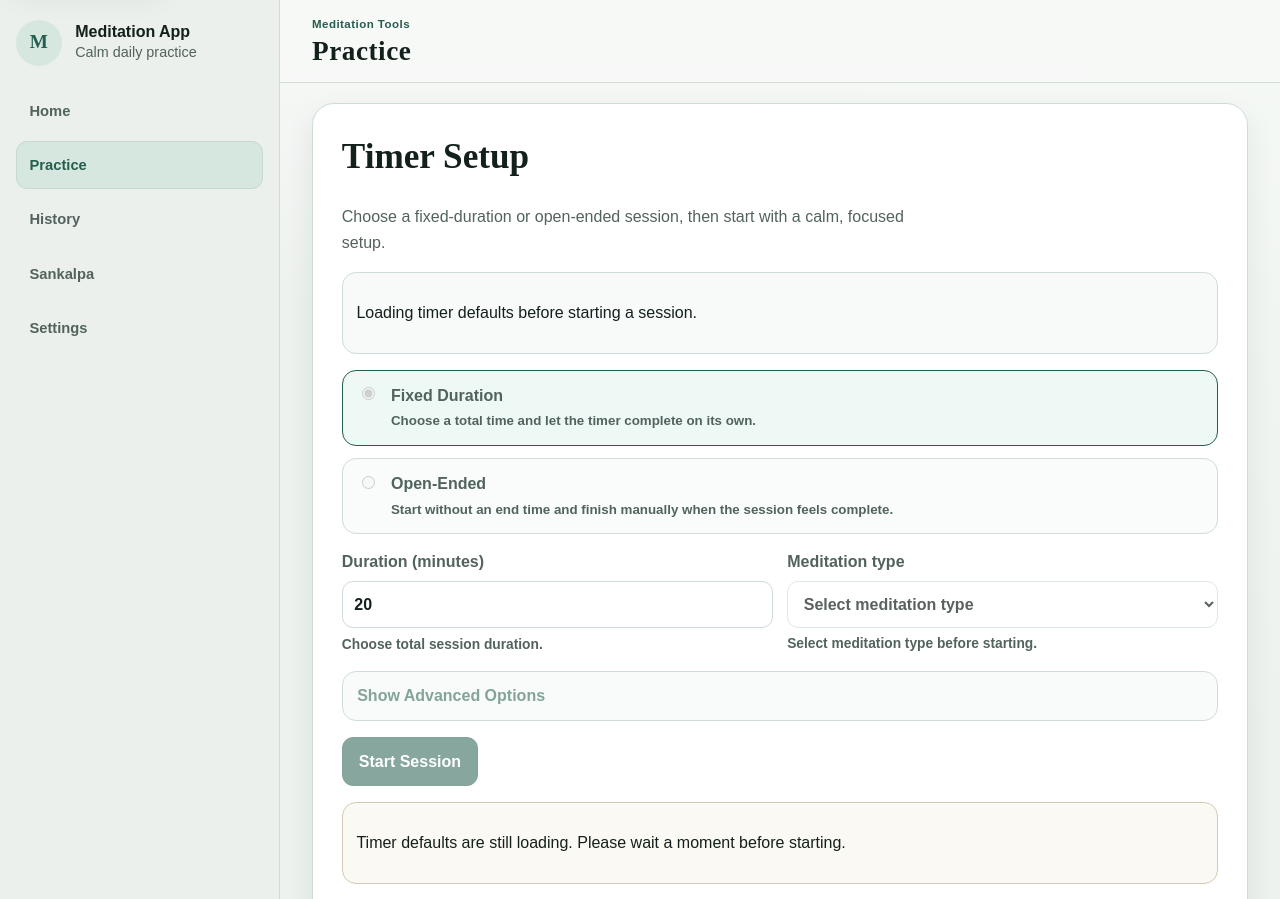
Test: ActiveTimerPage UX › shows elapsed time and end-session wording for open-ended sessions
Expected: the dropdown labelled "Meditation type Select meditation type before starting." is shown, [787,581,1218,628]
Click the radio button labelled "Open-Ended" at (369, 482), box [362,476,375,489]
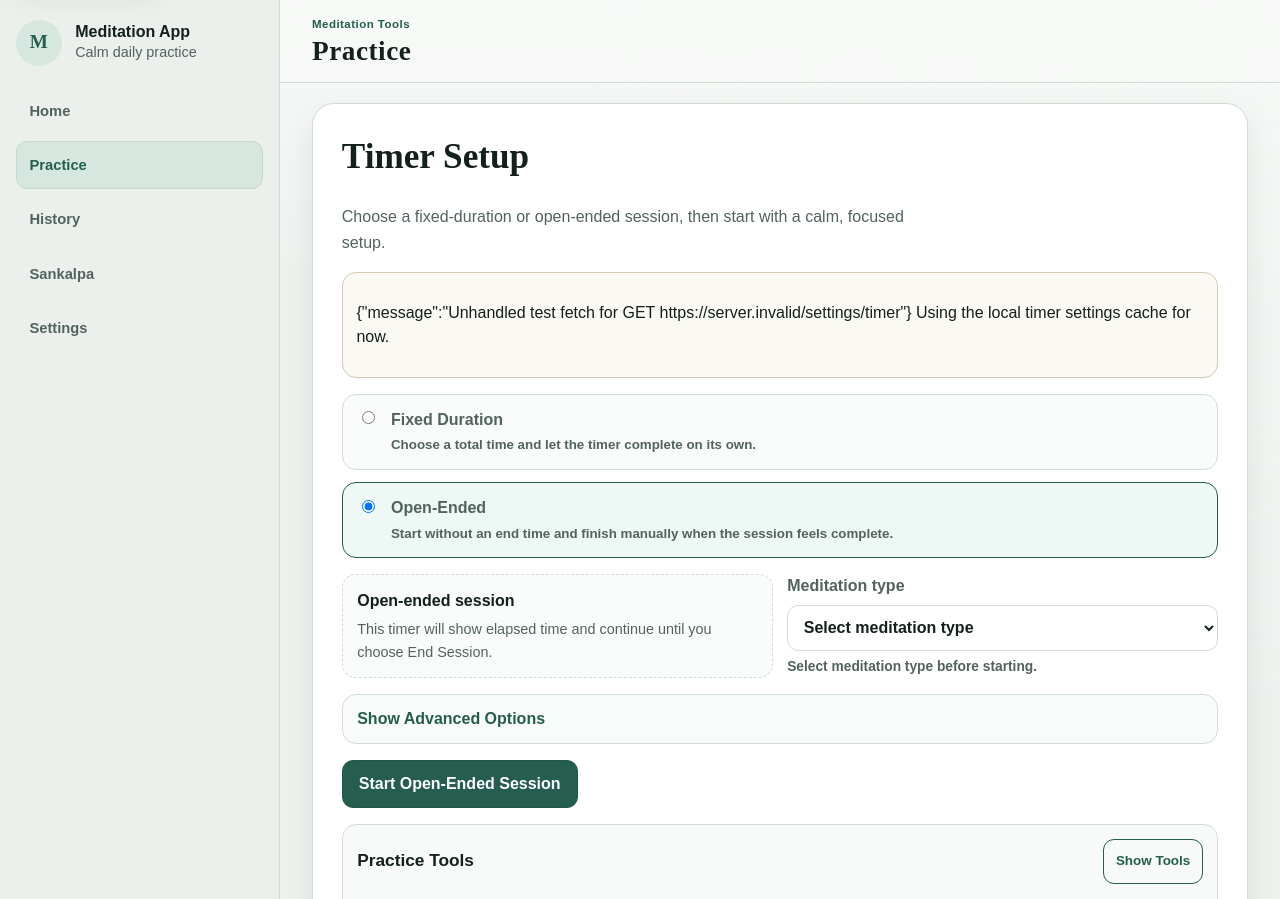
Select "Vipassana" in the dropdown labelled "Meditation type Select meditation type before starting." at (1003, 628), box [787,605,1218,650]
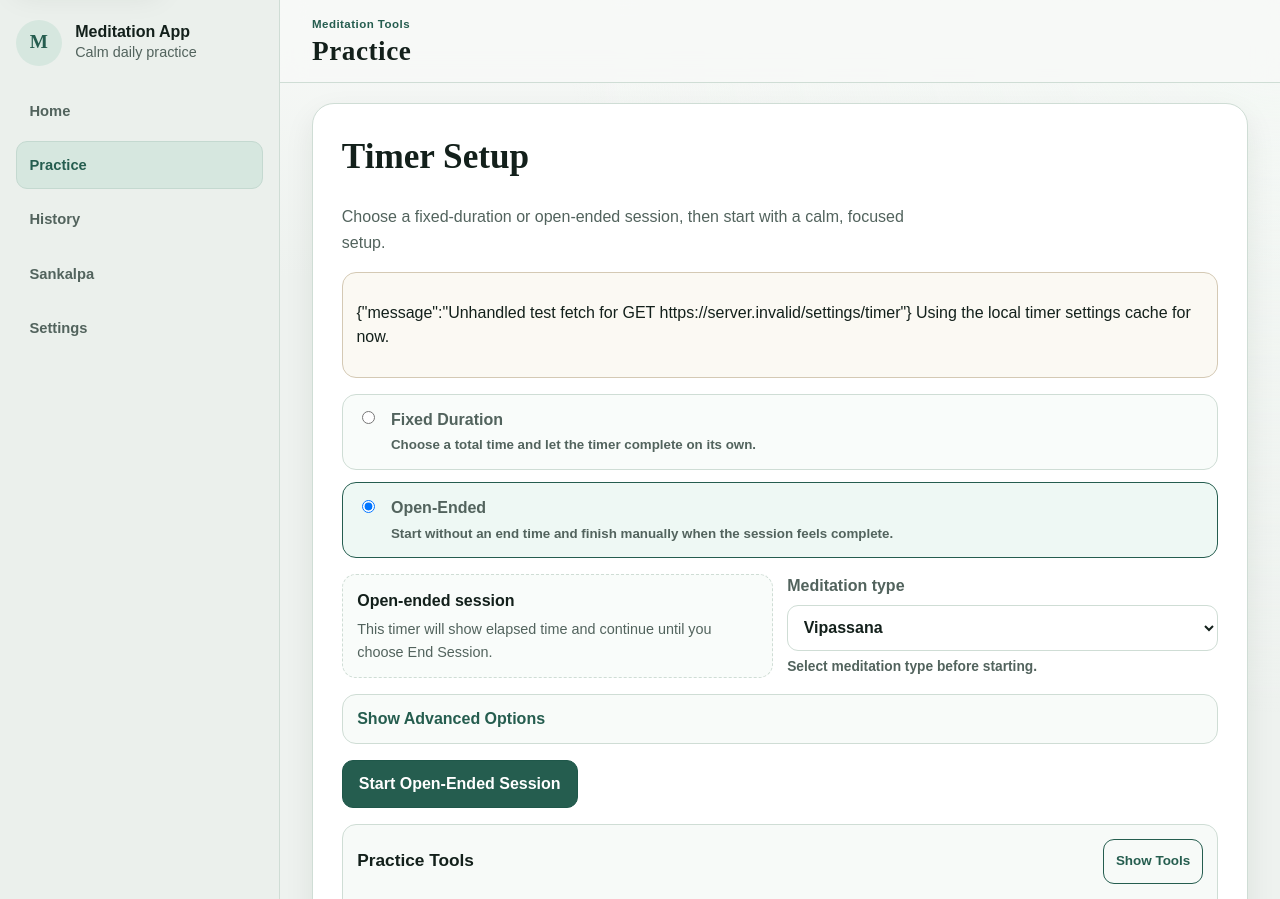
Now the button "Start Open-Ended Session" is enabled
Click the button "Start Open-Ended Session" at (460, 784), box [342,760,578,808]
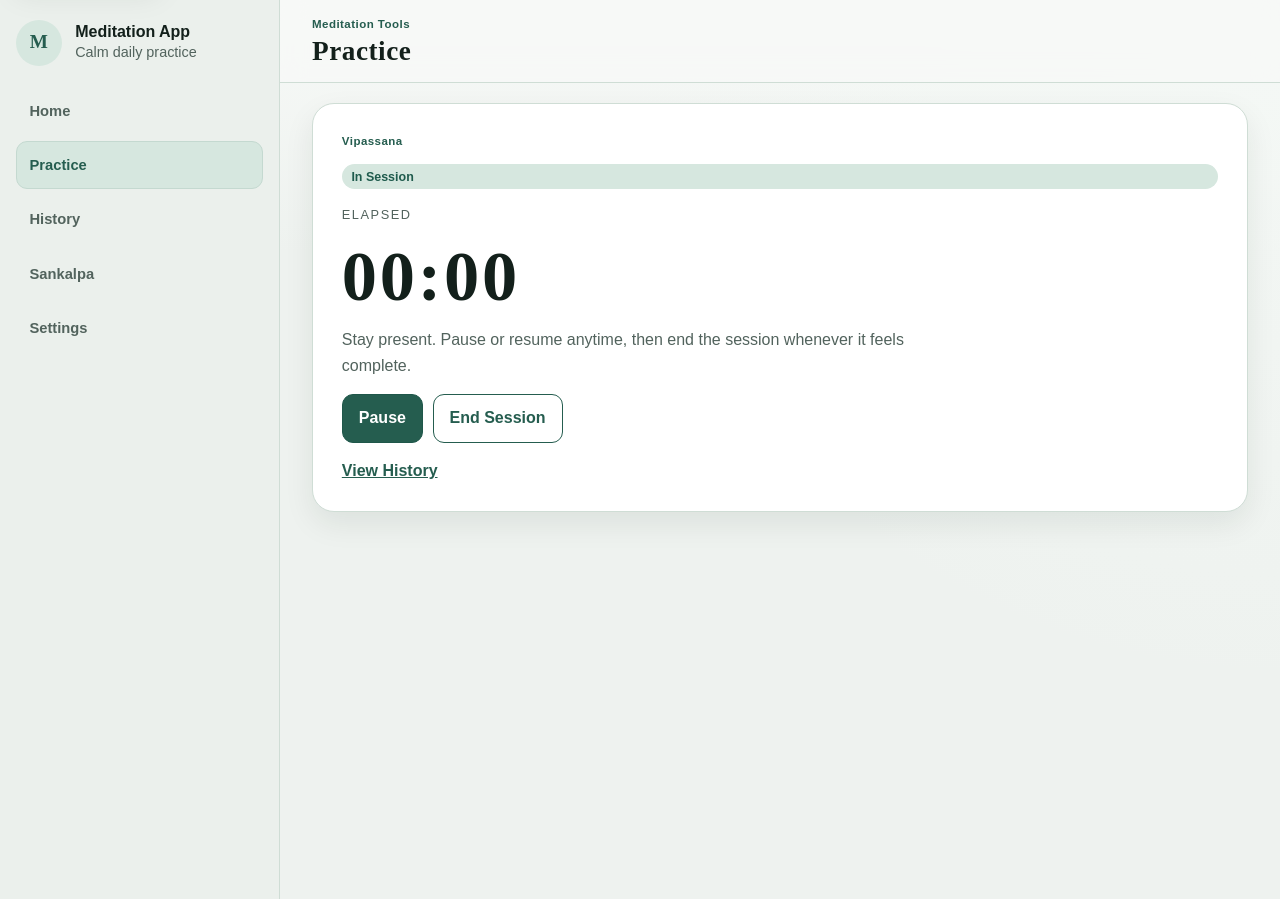
Now the text "Elapsed" is shown, box [342,208,412,222]
Now the button "End Session" is shown, box [432,394,562,443]
Now the heading "00:00" is shown, box [342,237,520,315]
